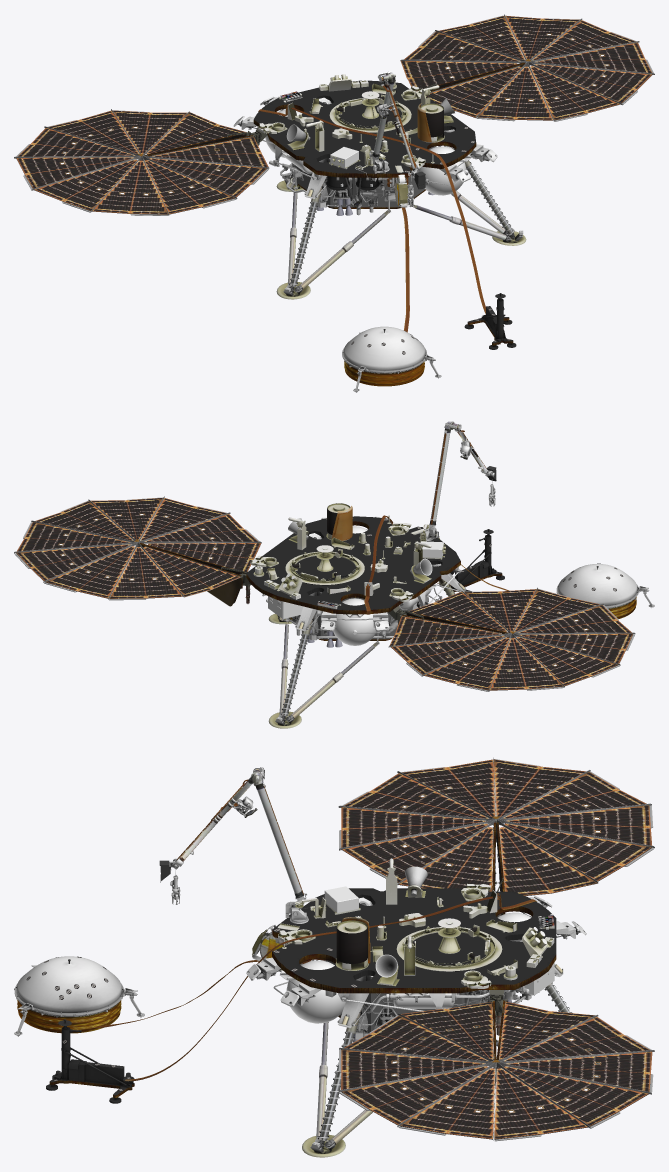
Rendered from InSight.glb.
The picture shows the model from 3 angles, top to bottom: view 1: azimuth 30°, elevation 25°; view 2: azimuth 150°, elevation 25°; view 3: azimuth 270°, elevation 25°; orthographic projection. The views are drawn at different scales.
Visible parts, largest first — view 1: InSight_Deployed, Cube.095, Cube.091, Cube.053, Cube.079, Cube.096, Cube.001, Cube.081, Cube.093, Cube.059, Cube.083, Cube.089; view 2: InSight_Deployed, Cube.096, Cube.091, Cube.095, Cube.081, Cube.083, Cube.085, Cube.087, Cube.053, Cube.079, Cube.089, Cube.078 (+4 smaller); view 3: InSight_Deployed, Cube.091, Cube.095, Cube.059, Cube.089, Cube.087, Cube.093, Cube.053, Cube.057, Cube.085, Cube.096, Cube.083 (+5 smaller).
Part boxes in pixels (left/top/right/bottom): InSight_Deployed: left=14, top=14, right=654, bottom=392; Cube.095: left=477, top=66, right=526, bottom=121; Cube.091: left=537, top=65, right=637, bottom=104; Cube.053: left=152, top=136, right=261, bottom=156; Cube.079: left=404, top=63, right=516, bottom=79; Cube.096: left=451, top=68, right=520, bottom=117; Cube.001: left=34, top=160, right=136, bottom=201; Cube.081: left=418, top=31, right=520, bottom=61; Cube.093: left=530, top=66, right=586, bottom=121; Cube.059: left=146, top=120, right=218, bottom=154; Cube.083: left=470, top=15, right=525, bottom=60; Cube.089: left=542, top=59, right=653, bottom=74; InSight_Deployed: left=14, top=421, right=654, bottom=728; Cube.096: left=148, top=543, right=261, bottom=558; Cube.091: left=126, top=497, right=162, bottom=539; Cube.095: left=150, top=529, right=259, bottom=541; Cube.081: left=109, top=547, right=146, bottom=600; Cube.083: left=44, top=546, right=133, bottom=592; Cube.085: left=14, top=544, right=130, bottom=568; Cube.087: left=23, top=522, right=130, bottom=542; Cube.053: left=409, top=603, right=500, bottom=630; Cube.079: left=143, top=547, right=212, bottom=597; Cube.089: left=61, top=501, right=133, bottom=540; Cube.078: left=145, top=546, right=240, bottom=588; InSight_Deployed: left=14, top=757, right=654, bottom=1157; Cube.091: left=339, top=1066, right=487, bottom=1110; Cube.095: left=369, top=1015, right=488, bottom=1060; Cube.059: left=502, top=827, right=597, bottom=893; Cube.089: left=398, top=1068, right=492, bottom=1135; Cube.087: left=494, top=1068, right=541, bottom=1141; Cube.093: left=338, top=1050, right=485, bottom=1072; Cube.053: left=448, top=827, right=493, bottom=891; Cube.057: left=341, top=824, right=487, bottom=858; Cube.085: left=504, top=1067, right=619, bottom=1128; Cube.096: left=401, top=1008, right=485, bottom=1056; Cube.083: left=513, top=1065, right=653, bottom=1092.
Bounding box in the file's own units: 6.14 × 2.19 × 4.35.
Materials: 13 (11 with a texture image).
